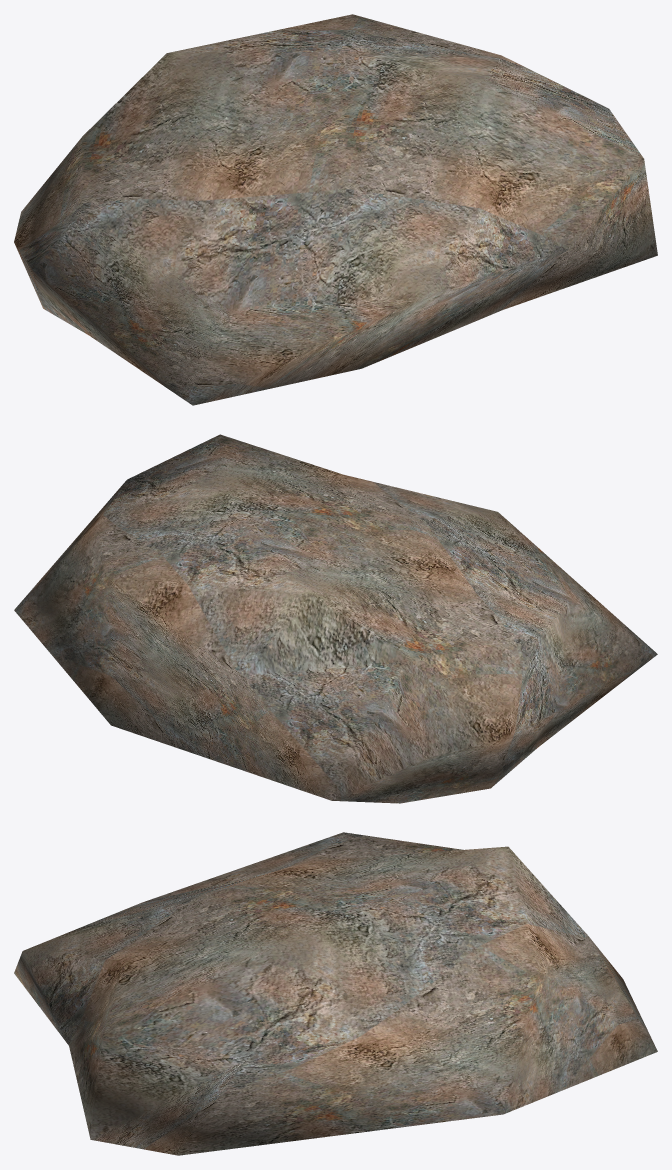
File: rock_forestrock_lg_l0.fbx
3 renders of one model, top to bottom at view 1: azimuth 30°, elevation 25°; view 2: azimuth 150°, elevation 25°; view 3: azimuth 270°, elevation 25°, orthographic. The views are drawn at different scales.
Parts seen in each view (by area): view 1: mesh_node; view 2: mesh_node; view 3: mesh_node.
Part boxes in pixels (x1,y1,x2,y2): mesh_node: (14,14,657,405); mesh_node: (14,434,657,803); mesh_node: (14,832,657,1155).
Bounding box in the file's own units: 1.27 × 0.4836 × 1.27.
